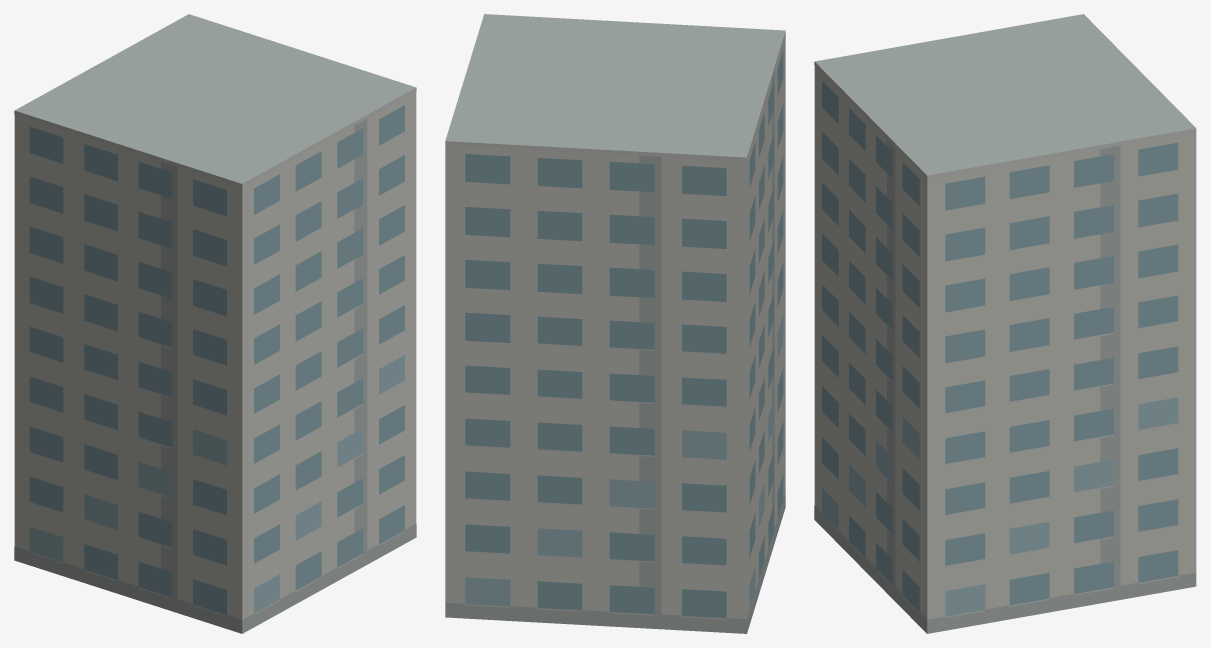
File: residential-760a596d-1183-4254-b6db-b5b589de24eb.glb
3 views of the same model, side by side, from view 1: azimuth 30°, elevation 25°; view 2: azimuth 150°, elevation 25°; view 3: azimuth 270°, elevation 25° (orthographic). The views are drawn at different scales.
Visible parts, largest first — view 1: residential-760a596d-1183-4254-b6db-b5b589de24eb.tmp; view 2: residential-760a596d-1183-4254-b6db-b5b589de24eb.tmp; view 3: residential-760a596d-1183-4254-b6db-b5b589de24eb.tmp.
Part boxes in pixels (<box>): residential-760a596d-1183-4254-b6db-b5b589de24eb.tmp: <box>14,14,416,633</box>; residential-760a596d-1183-4254-b6db-b5b589de24eb.tmp: <box>445,14,785,633</box>; residential-760a596d-1183-4254-b6db-b5b589de24eb.tmp: <box>814,14,1196,633</box>.
Size of the model in its own units: 21.18 by 28 by 21.15.
